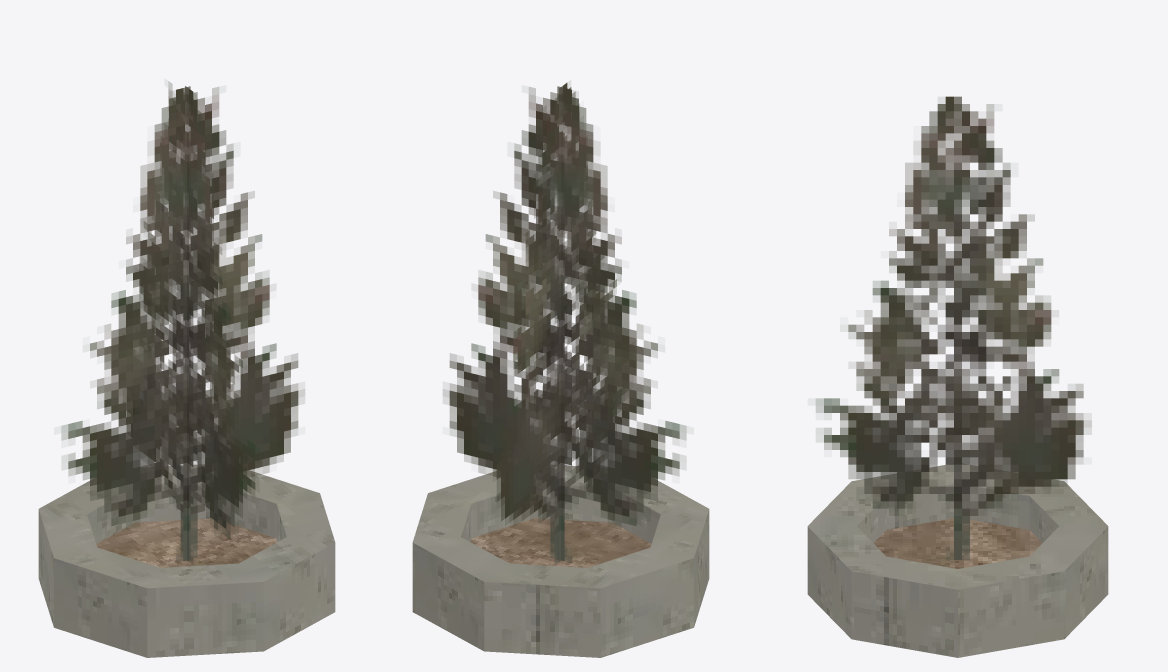
Rendered from kenney-retro-urban-tree-park-pine-large.glb.
3 renders of one model, left to right at view 1: azimuth 30°, elevation 25°; view 2: azimuth 150°, elevation 25°; view 3: azimuth 270°, elevation 25°, orthographic. The views are drawn at different scales.
Parts seen in each view (by area): view 1: tree-park-pine-large; view 2: tree-park-pine-large; view 3: tree-park-pine-large.
Boxes of the visible parts, bbox=[...] form: tree-park-pine-large: bbox=[38, 81, 335, 657]; tree-park-pine-large: bbox=[412, 82, 709, 657]; tree-park-pine-large: bbox=[807, 96, 1108, 657].
Bounding box in the file's own units: 1.04 × 1.46 × 1.04.
3 materials, 3 textured.
